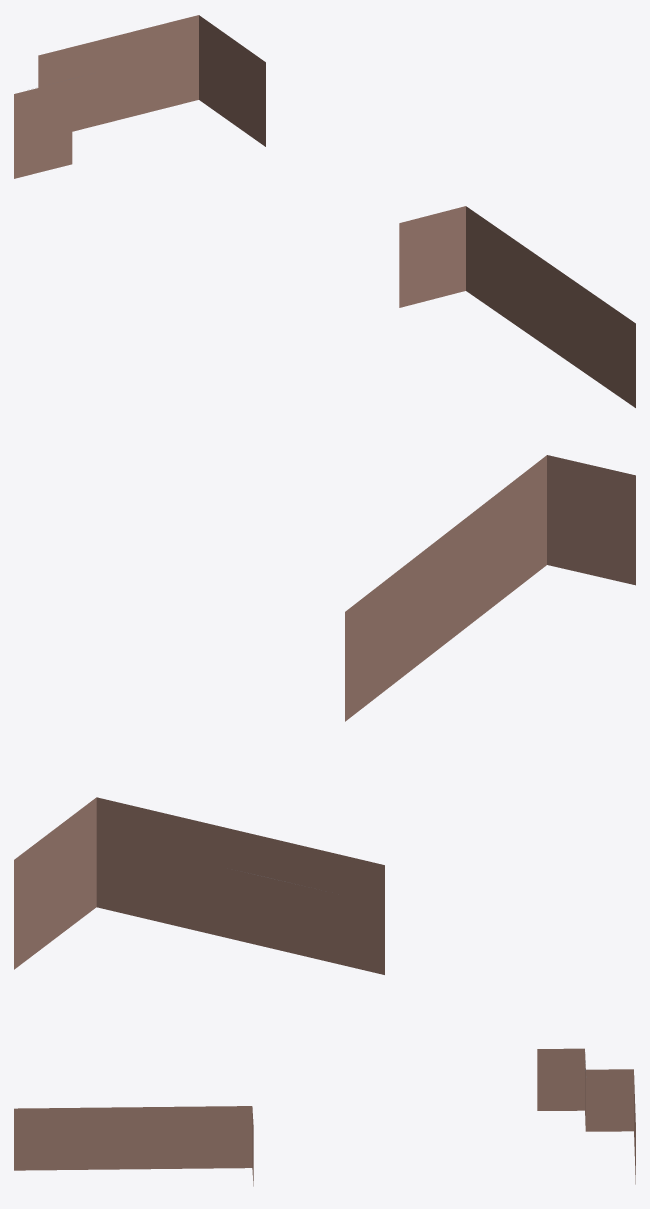
The model's file is c_1628_17833_buildings_residential.glb.
The picture shows the model from 3 angles, top to bottom: view 1: azimuth 30°, elevation 25°; view 2: azimuth 150°, elevation 25°; view 3: azimuth 270°, elevation 25°; orthographic projection. The views are drawn at different scales.
Parts seen in each view (by area): view 1: geometry_0; view 2: geometry_0; view 3: geometry_0.
Boxes of the visible parts, x1,y1,x2,y2 form: geometry_0: (14,15,635,407); geometry_0: (14,455,635,974); geometry_0: (14,1048,635,1186).
Size of the model in its own units: 31.56 by 11.24 by 99.88.
